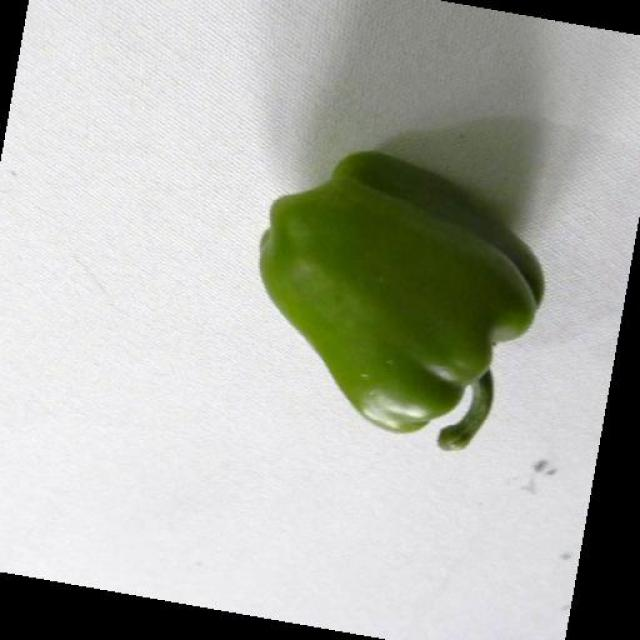Fresh_Capsicum: (227, 156, 539, 472)
